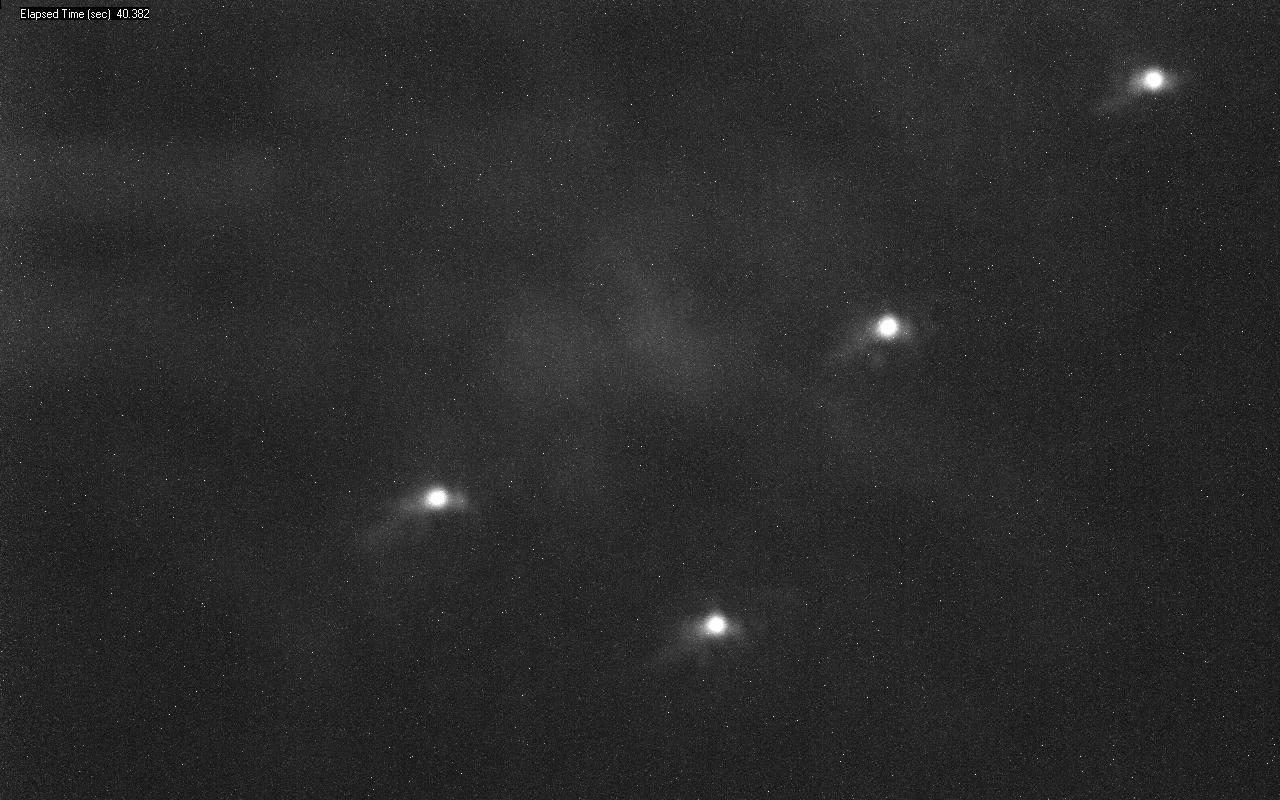Bead: (1125, 66, 1173, 97), (421, 485, 466, 512), (876, 310, 913, 342), (705, 613, 727, 636)
